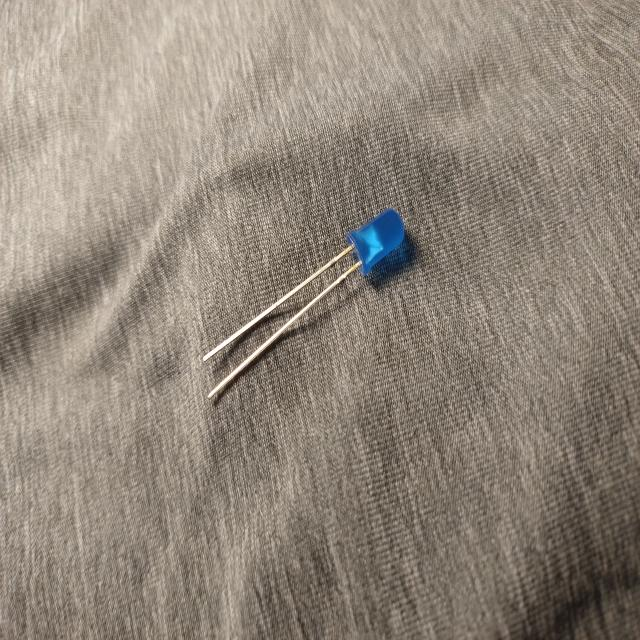blue_led: (201, 206, 406, 401)
